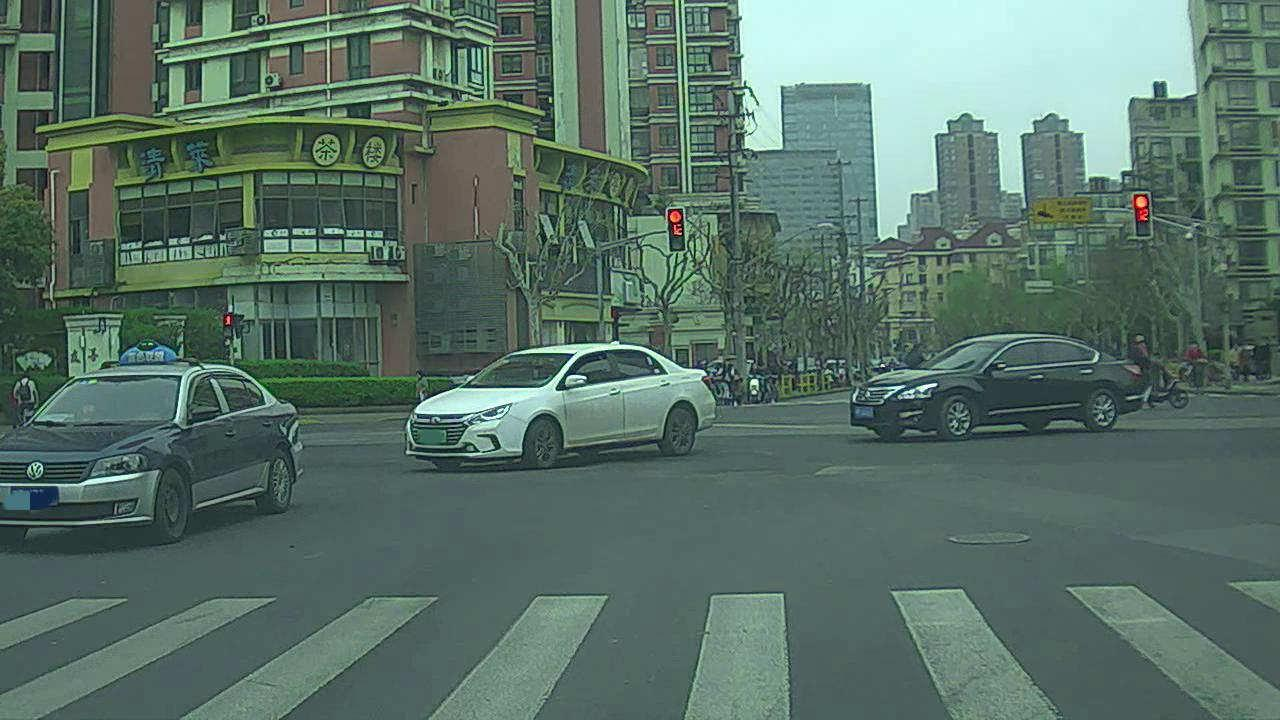traffic_light: (1132, 191, 1153, 242), (666, 206, 688, 250)
